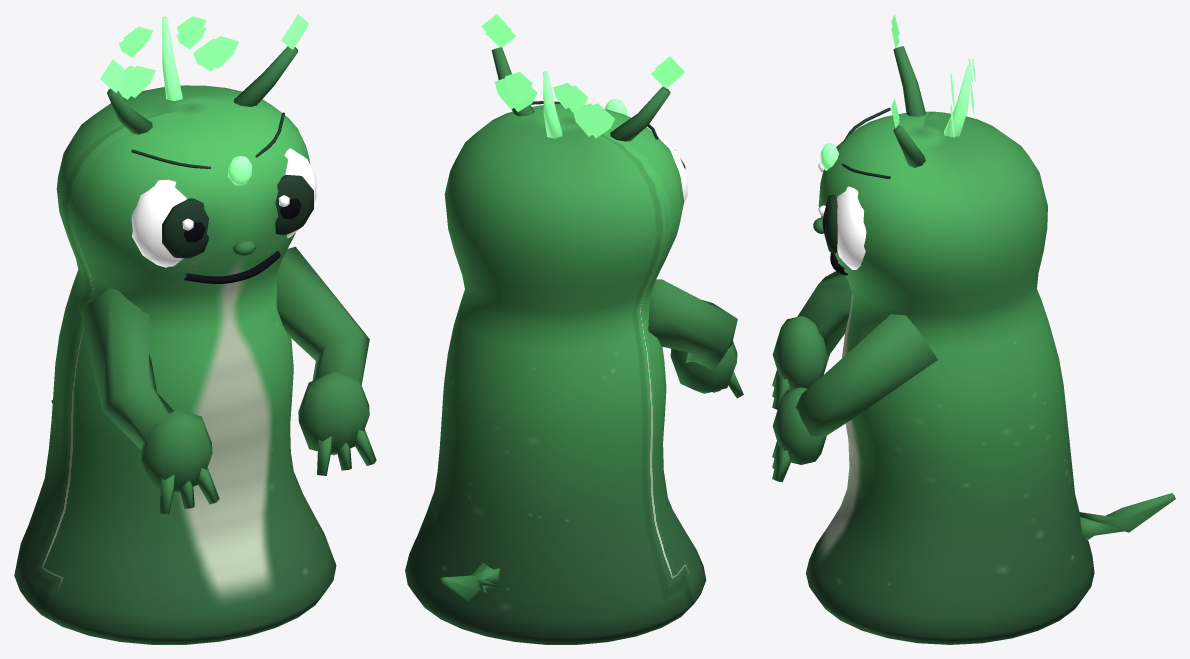
Rendered from espina_pixar.glb.
The picture shows the model from 3 angles, left to right: view 1: azimuth 30°, elevation 25°; view 2: azimuth 150°, elevation 25°; view 3: azimuth 270°, elevation 25°; orthographic projection. The views are drawn at different scales.
Visible parts, largest first — view 1: espina_cuerpo; view 2: espina_cuerpo; view 3: espina_cuerpo.
Boxes of the visible parts, x1,y1,x2,y2 form: espina_cuerpo: [14, 14, 376, 644]; espina_cuerpo: [405, 14, 743, 644]; espina_cuerpo: [772, 14, 1175, 644].
Bounding box in the file's own units: 0.302 × 0.58 × 0.402.
5 materials, 1 textured.
